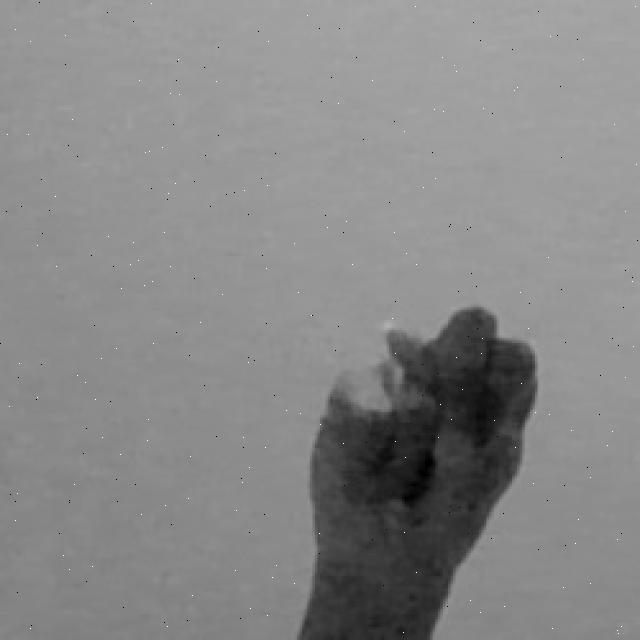N: (301, 299, 547, 640)
